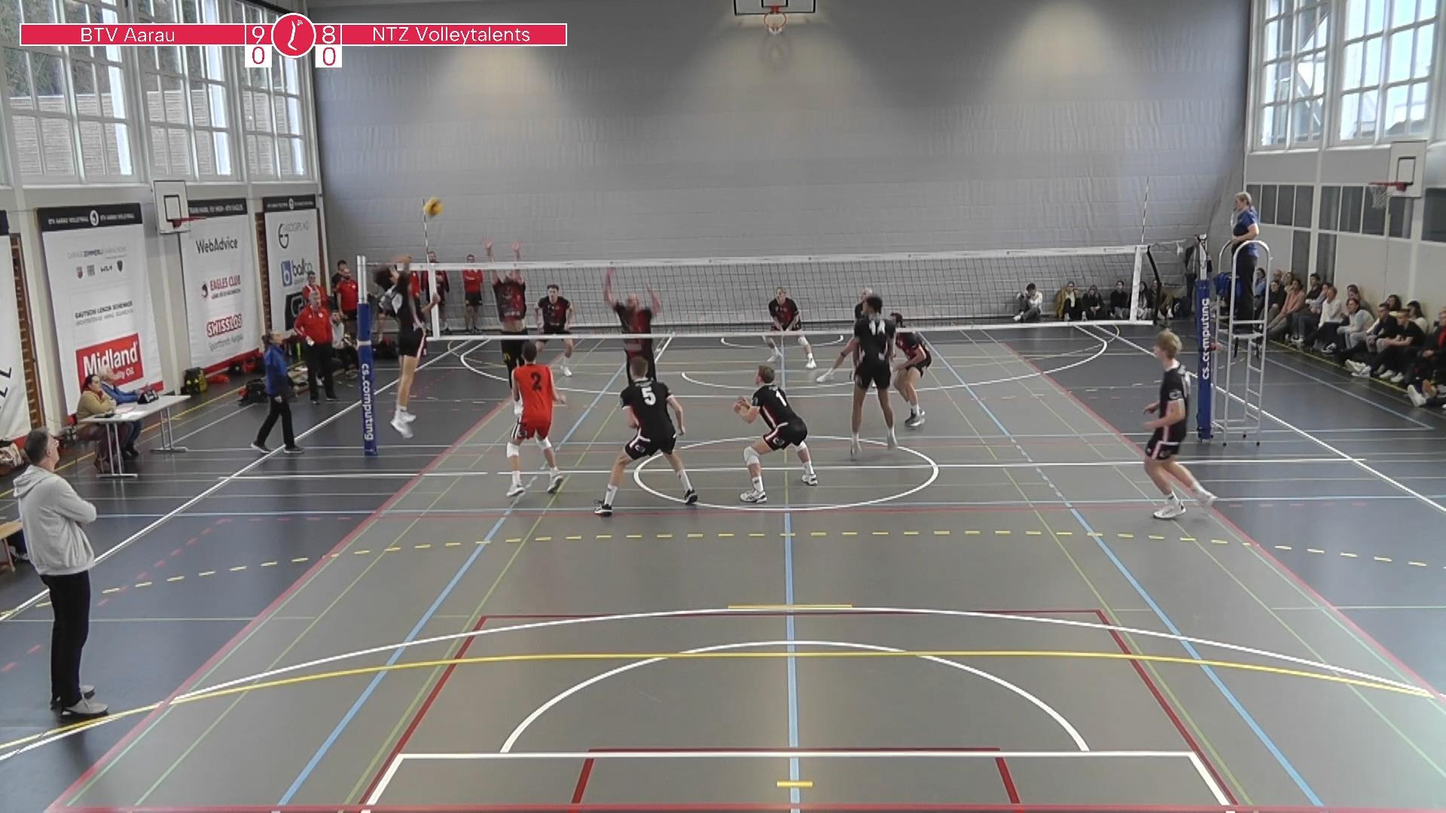attacco: (343, 249, 438, 444)
muro: (482, 241, 535, 382)
